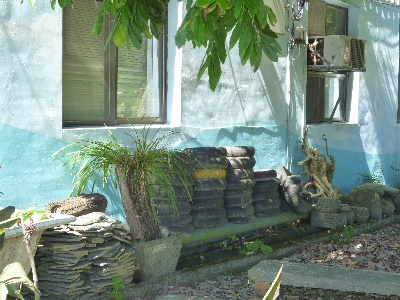tire: (182, 157, 229, 170), (190, 215, 228, 230), (182, 145, 228, 157), (188, 195, 226, 209), (190, 178, 228, 191), (189, 207, 227, 219), (189, 188, 225, 199)
